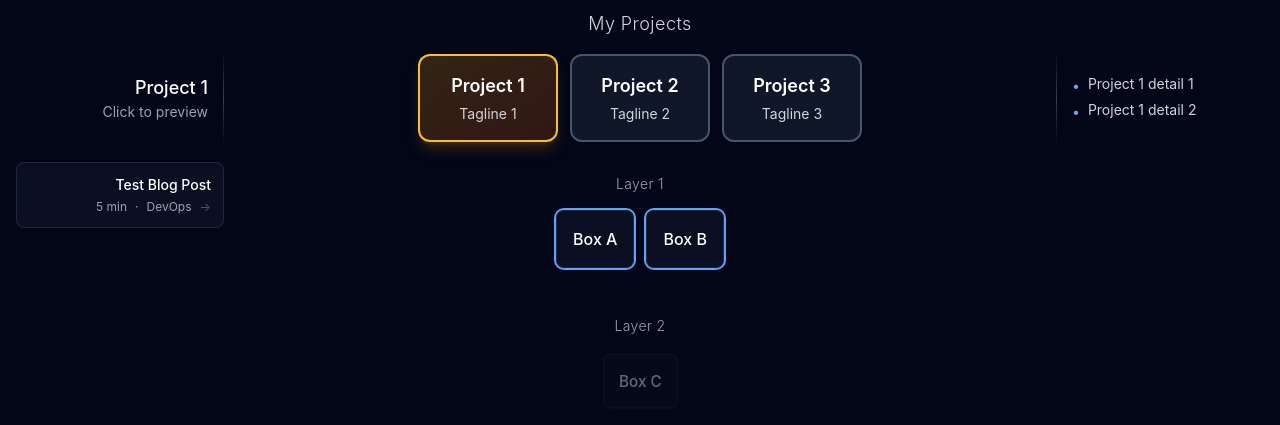
StackDiagram › blog post preview › shows post preview when post is clicked
Note: Click the post in the list
Step 1. Click the button "Test Blog Post 5 min · DevOps →" → click(120, 195), box [16,162,224,228]
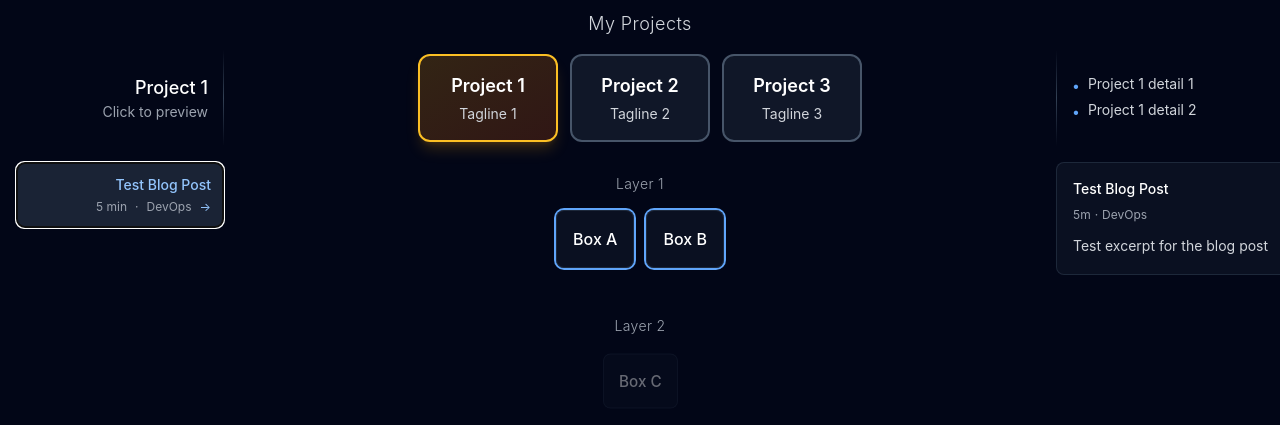
Check: the text "Test excerpt for the blog post" is shown, box [1073,237,1268,254]
